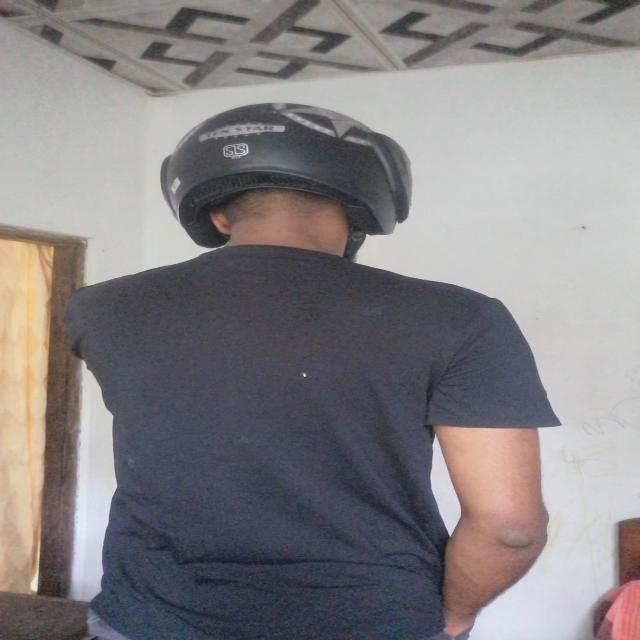Helmet_Wearer: (118, 98, 424, 279)
Person: (58, 94, 538, 640)
